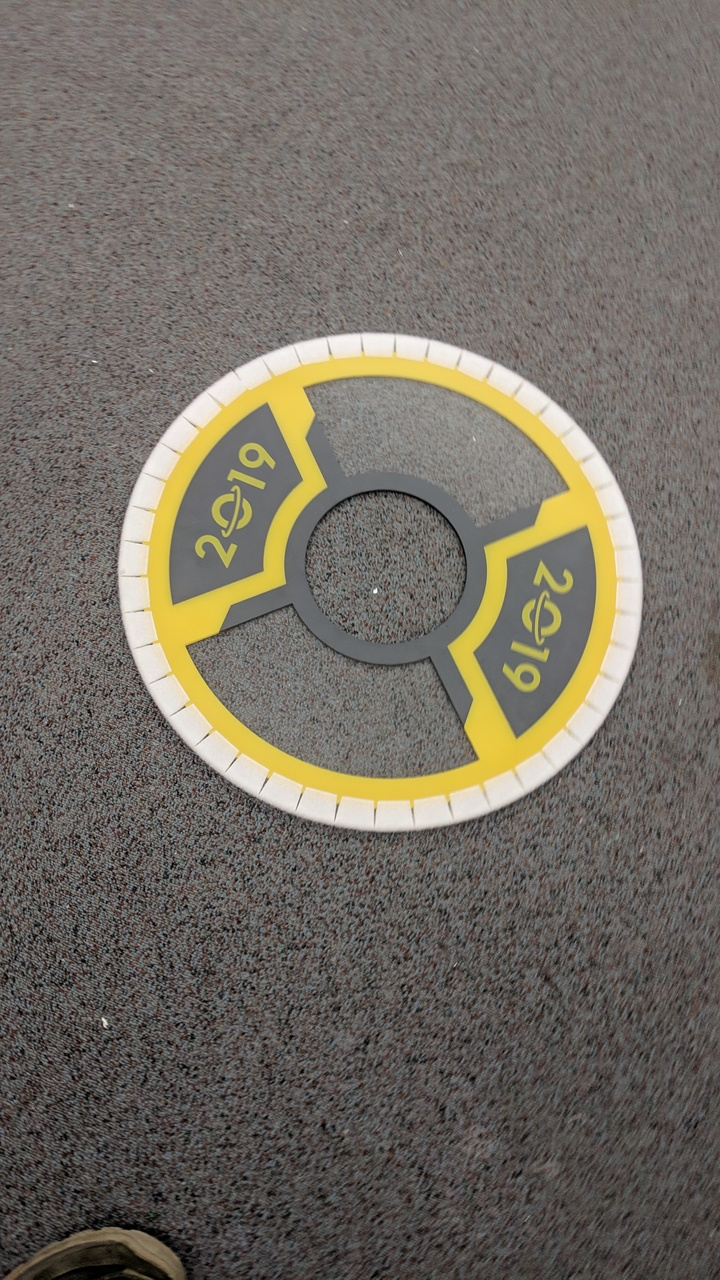hatch_panel: (105, 326, 648, 824)
